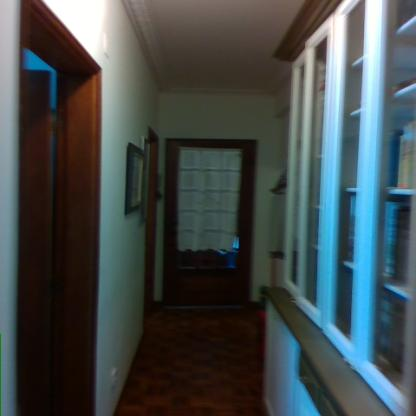closed: (154, 136, 266, 326)
open: (13, 0, 116, 415)
